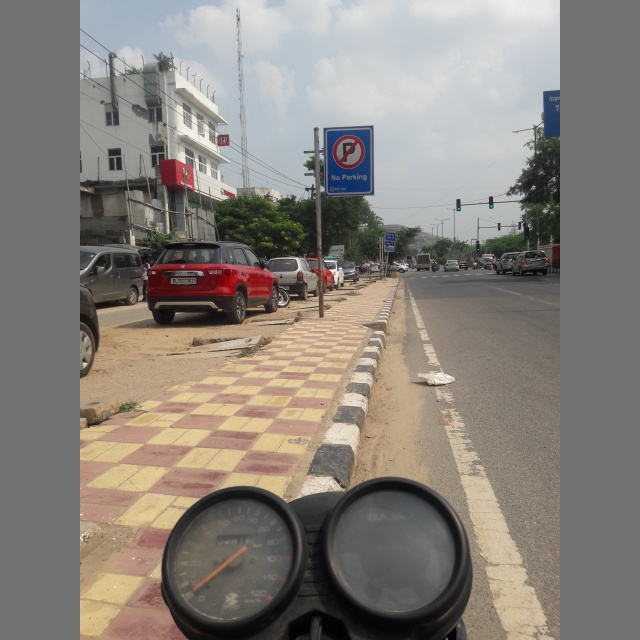No_Parking: (326, 127, 374, 174)
